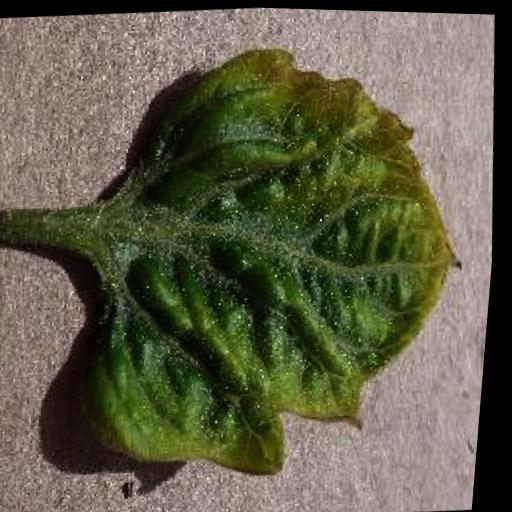Yellow Leaf Curl Virus: (56, 27, 498, 492)
